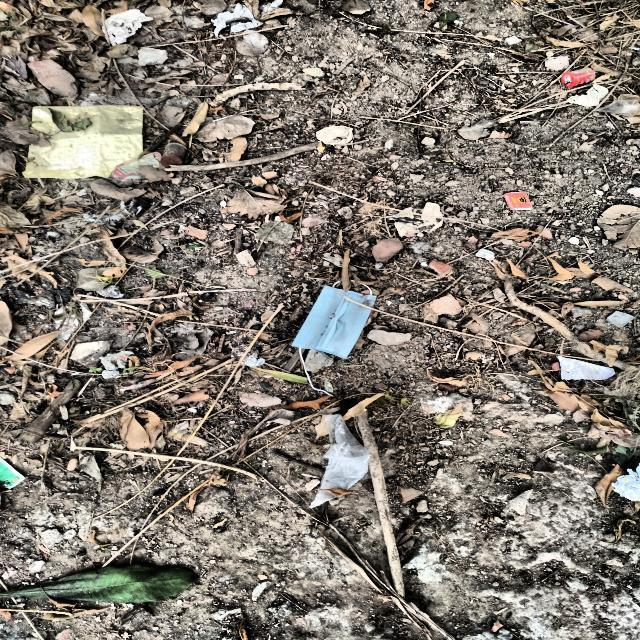anorganik: (313, 415, 373, 515), (0, 456, 24, 492), (560, 66, 596, 89), (159, 143, 190, 169), (605, 95, 640, 118), (232, 347, 266, 367)
b3: (293, 287, 378, 362)
organik: (0, 0, 109, 282), (501, 277, 640, 374), (354, 409, 409, 600), (535, 369, 640, 463), (0, 562, 196, 611), (23, 104, 144, 181), (548, 0, 640, 95), (72, 447, 261, 483), (170, 139, 326, 171), (18, 380, 84, 443), (208, 82, 306, 108), (115, 408, 166, 453), (223, 184, 289, 218), (601, 205, 640, 259), (104, 8, 152, 46), (390, 204, 445, 236), (557, 356, 617, 383), (8, 333, 63, 362), (611, 463, 640, 501), (568, 85, 609, 108), (318, 125, 354, 146), (0, 298, 15, 347), (502, 192, 533, 211)
